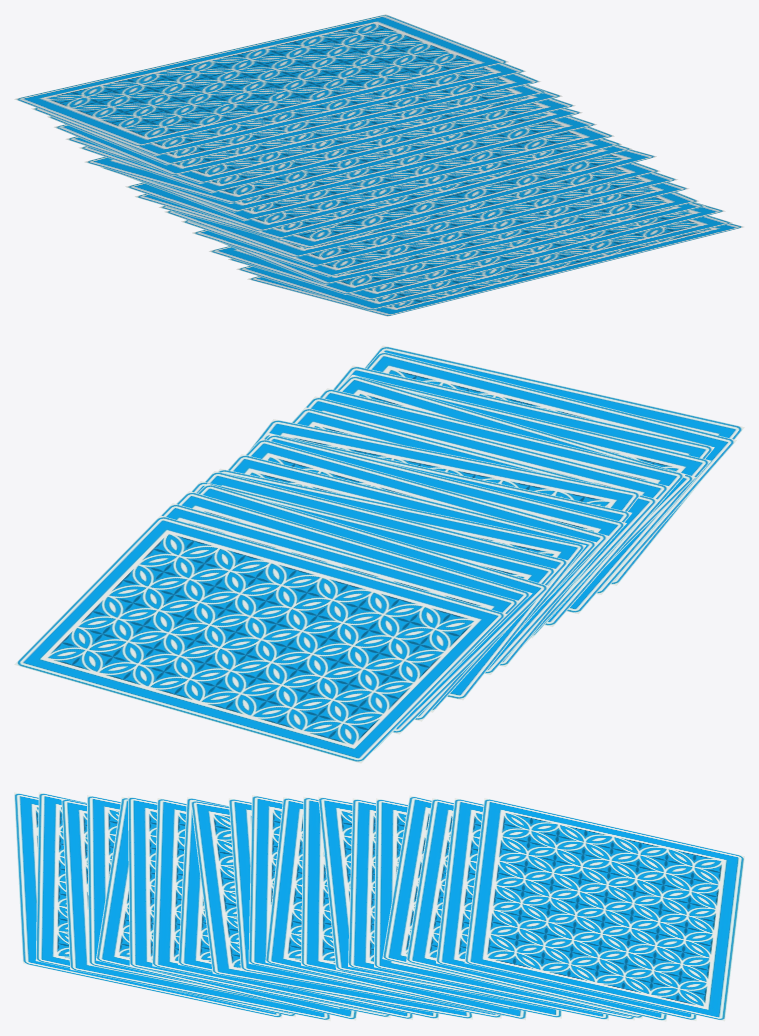
File: mus.glb
The picture shows the model from 3 angles, top to bottom: view 1: azimuth 30°, elevation 25°; view 2: azimuth 150°, elevation 25°; view 3: azimuth 270°, elevation 25°; orthographic projection. The views are drawn at different scales.
Parts seen in each view (by area): view 1: Cards; view 2: Cards; view 3: Cards.
Boxes of the visible parts, x1,y1,x2,y2 form: Cards: (14, 14, 743, 316); Cards: (14, 345, 744, 763); Cards: (14, 792, 744, 1021).
Size of the model in its own units: 1.59 by 0.2501 by 2.73.
1 material, 1 textured.
